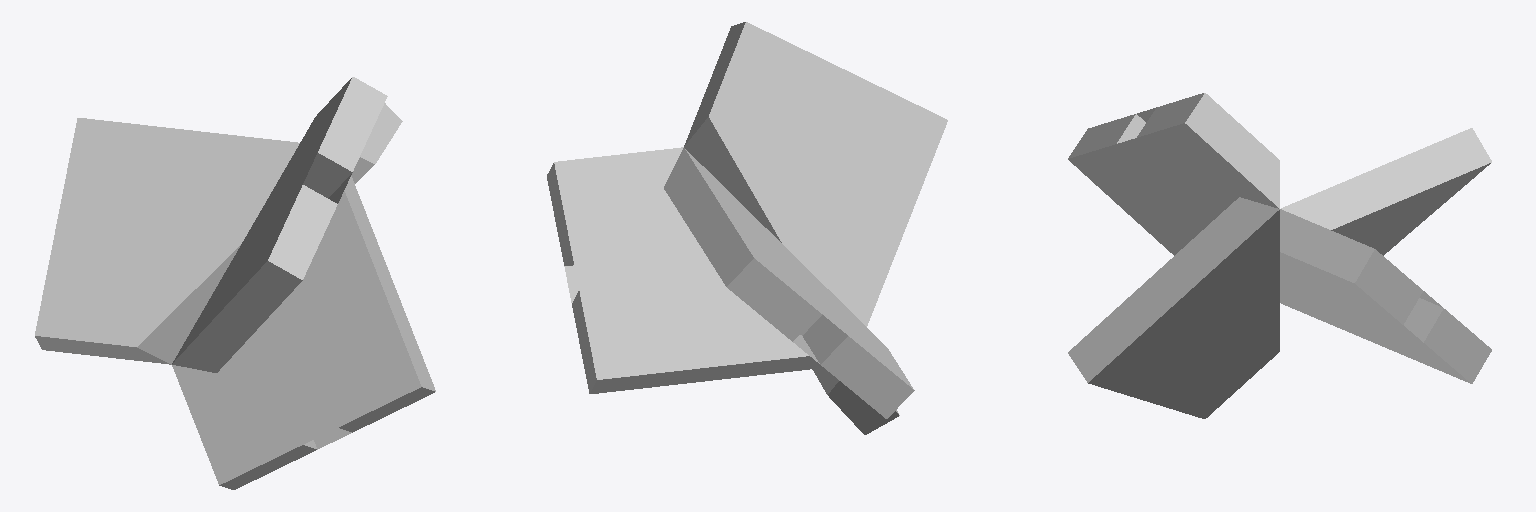
The model's file is PuzzleClip.obj.
The picture shows the model from 3 angles: view 1: azimuth 30°, elevation 25°; view 2: azimuth 150°, elevation 25°; view 3: azimuth 270°, elevation 25°; orthographic projection.
Visible parts, largest first — view 1: Cube.001_Cube.003, Cube.002_Cube.006; view 2: Cube.002_Cube.006, Cube.001_Cube.003; view 3: Cube.001_Cube.003, Cube.002_Cube.006.
Part boxes in pixels (left/top/right/bottom): Cube.001_Cube.003: left=172, top=77, right=435, bottom=489; Cube.002_Cube.006: left=35, top=103, right=402, bottom=364; Cube.002_Cube.006: left=547, top=147, right=914, bottom=418; Cube.001_Cube.003: left=684, top=22, right=947, bottom=434; Cube.001_Cube.003: left=1068, top=93, right=1279, bottom=418; Cube.002_Cube.006: left=1280, top=128, right=1491, bottom=383.
Size of the model in its own units: 2.09 by 2.09 by 2.09.